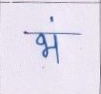anusvara: (50, 17, 54, 22)
